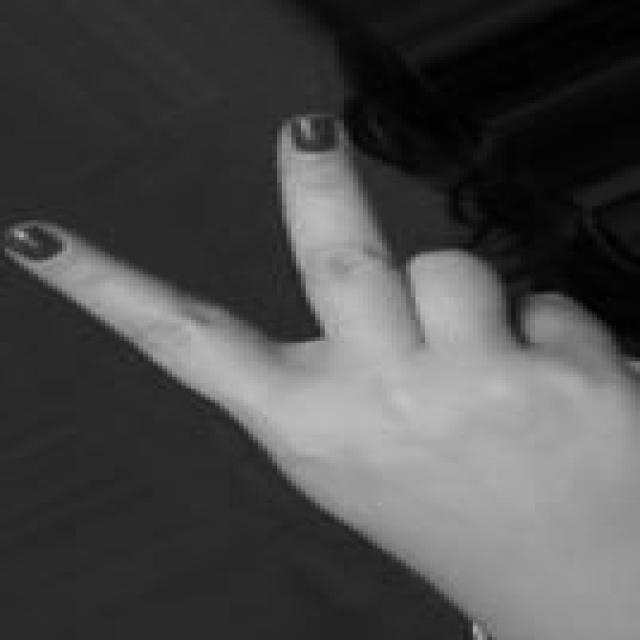V: (6, 110, 640, 640)
